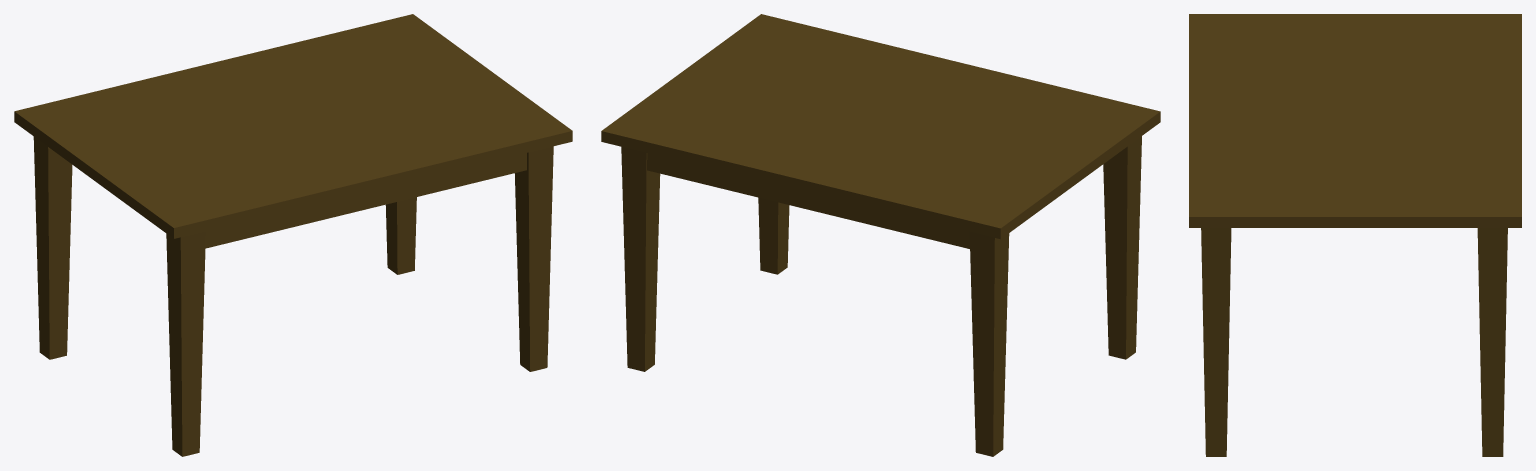
Rendered from Wide Table.fbx.
3 views of the same model, side by side, from view 1: azimuth 30°, elevation 25°; view 2: azimuth 150°, elevation 25°; view 3: azimuth 270°, elevation 25° (orthographic). The views are drawn at different scales.
Parts seen in each view (by area): view 1: stoll_wide; view 2: stoll_wide; view 3: stoll_wide.
Part boxes in pixels (left/top/right/bottom): stoll_wide: left=14, top=14, right=572, bottom=456; stoll_wide: left=601, top=14, right=1160, bottom=456; stoll_wide: left=1189, top=14, right=1521, bottom=456.
Bounding box in the file's own units: 420 × 240 × 291.
